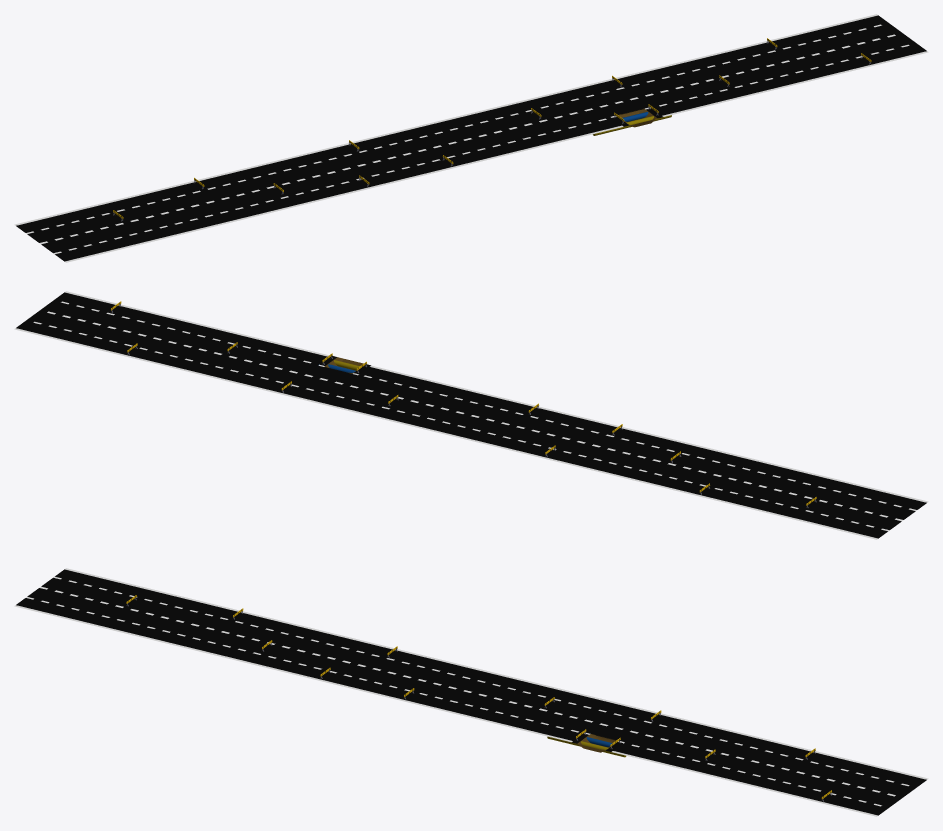
Rendered from bölüm1.fbx.
The picture shows the model from 3 angles, top to bottom: view 1: azimuth 30°, elevation 25°; view 2: azimuth 150°, elevation 25°; view 3: azimuth 330°, elevation 25°; orthographic projection.
Visible parts, largest first — view 1: Plane; view 2: Plane; view 3: Plane.
Boxes of the visible parts, box(x1,y1,x2,y2) form: Plane: box(14, 14, 928, 262); Plane: box(14, 291, 928, 539); Plane: box(14, 568, 928, 816).
Size of the model in its own units: 3800 by 42.72 by 399.
